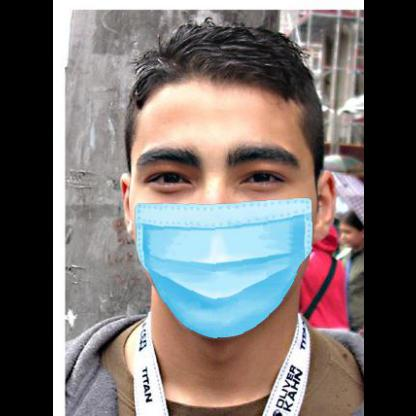Surgical Mask: (132, 141, 304, 328)
